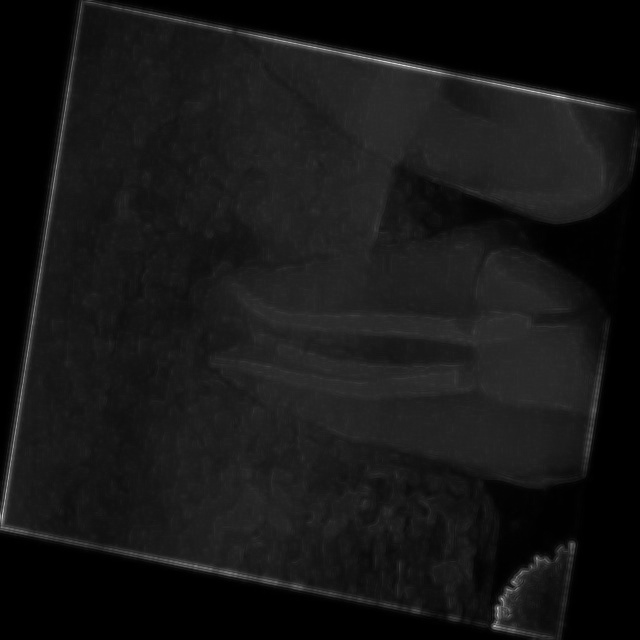Class 1- complete endodontic treatment: (149, 143, 615, 565)
